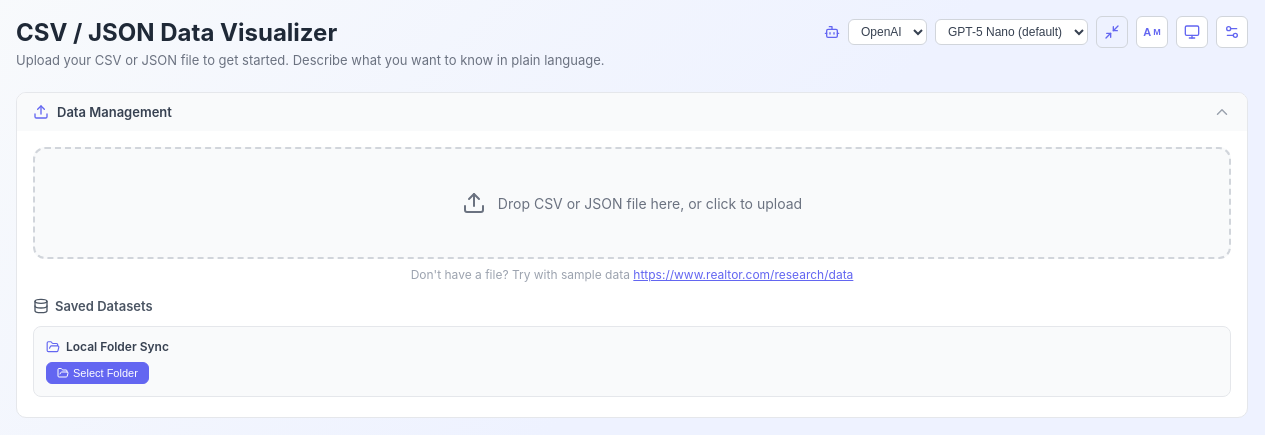
Test: App UI › toggles accordion open/close
expect the icon with class "lucide-chevron-up" is shown: met, box [1213,103,1231,121]
expect the file field labelled "Drop CSV or JSON file here, or click to upload" is shown: met, box [33,147,1231,259]
# Click header to close
Click the element showing "Data Management" at [632, 112], box [17,93,1247,131]
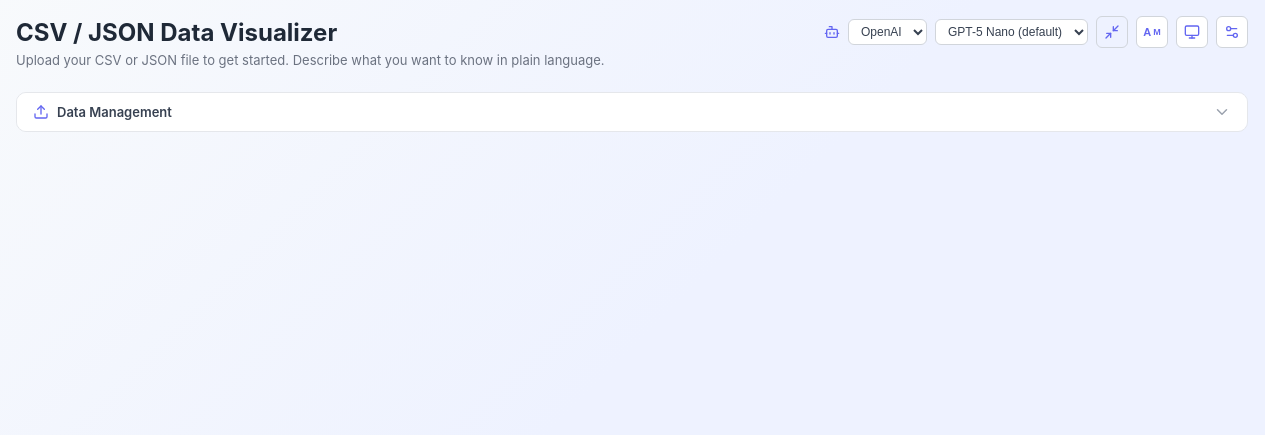
expect the icon with class "lucide-chevron-down" is shown: met, box [1213,103,1231,121]
# Click again to re-open
Click the element showing "Data Management" at [632, 112], box [17,93,1247,131]
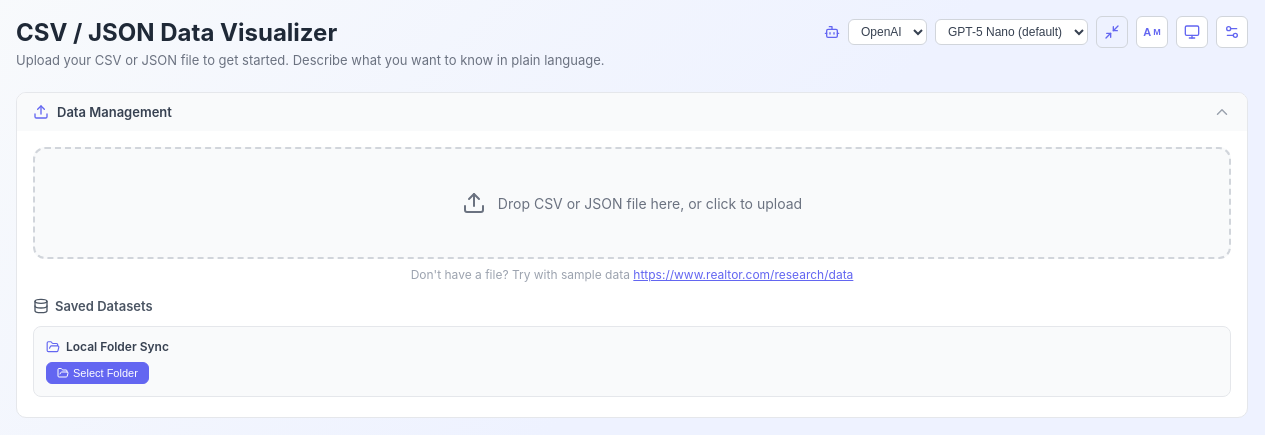
expect the file field labelled "Drop CSV or JSON file here, or click to upload" is shown: met, box [33,147,1231,259]
